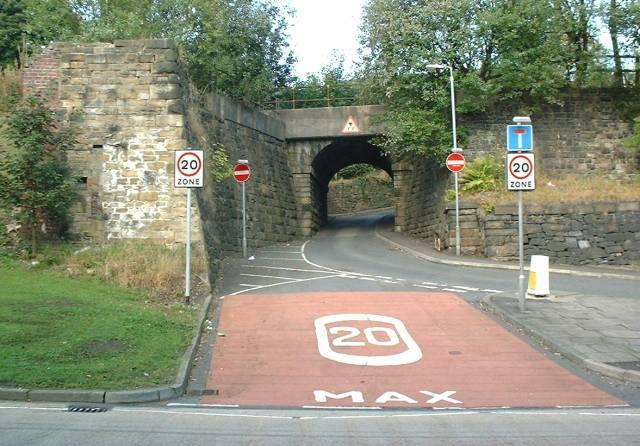B2: (233, 163, 251, 183), (447, 153, 465, 171)
